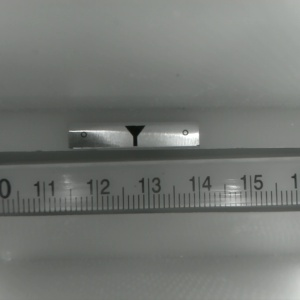0: (0, 178, 11, 199)
1: (137, 177, 144, 193), (290, 173, 297, 189), (34, 181, 41, 197), (86, 179, 93, 194), (239, 175, 246, 190), (49, 180, 56, 195), (188, 177, 194, 192)
2: (100, 178, 110, 194)
3: (151, 177, 160, 193)
4: (201, 176, 211, 191)
5: (253, 174, 262, 190)
finger: (122, 125, 145, 147)
